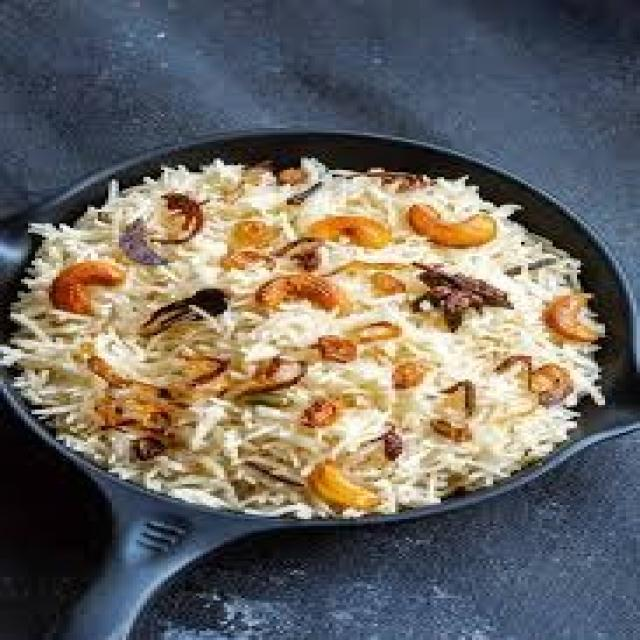nei satham: (3, 118, 640, 530)
